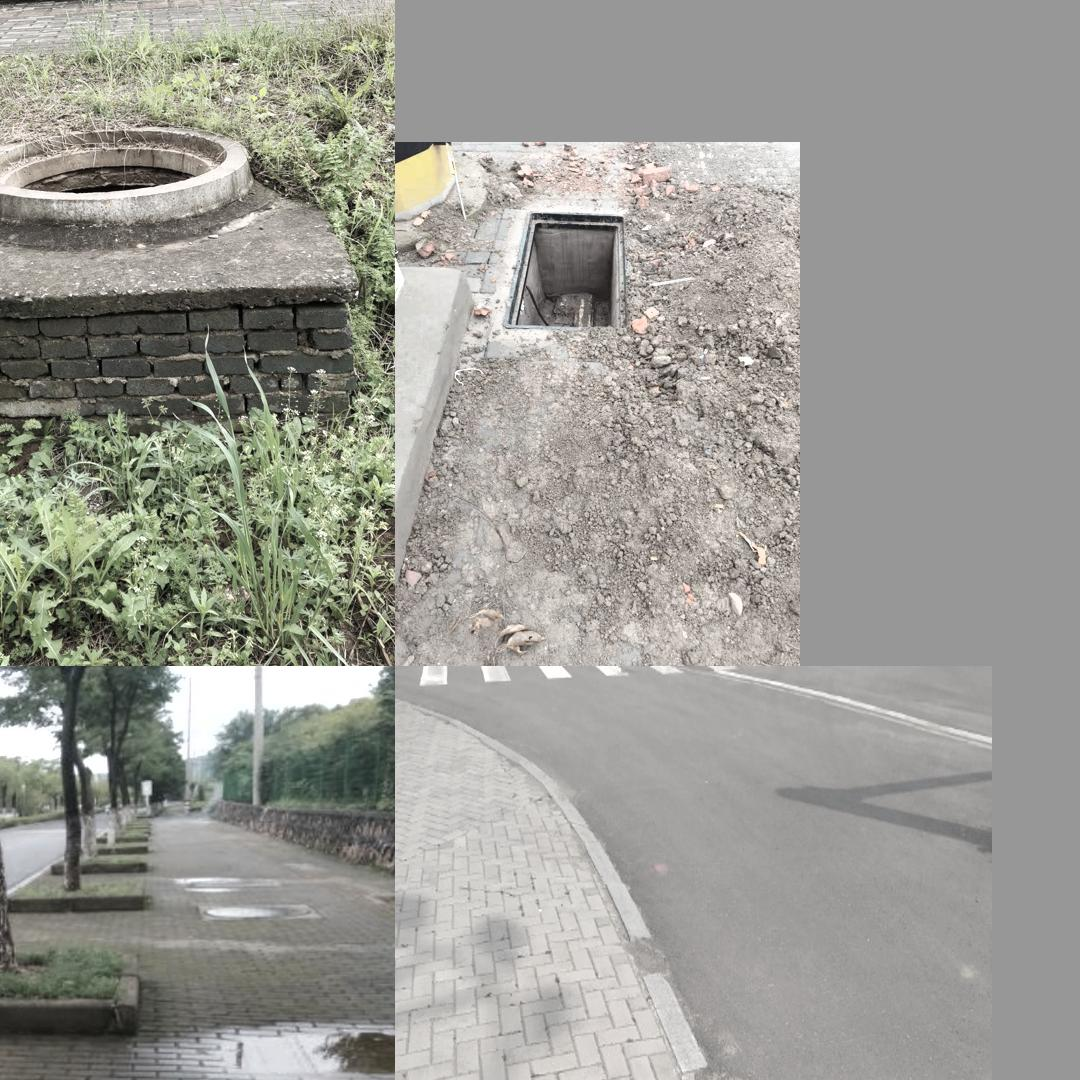lose: (0, 118, 251, 224), (500, 208, 635, 336)
